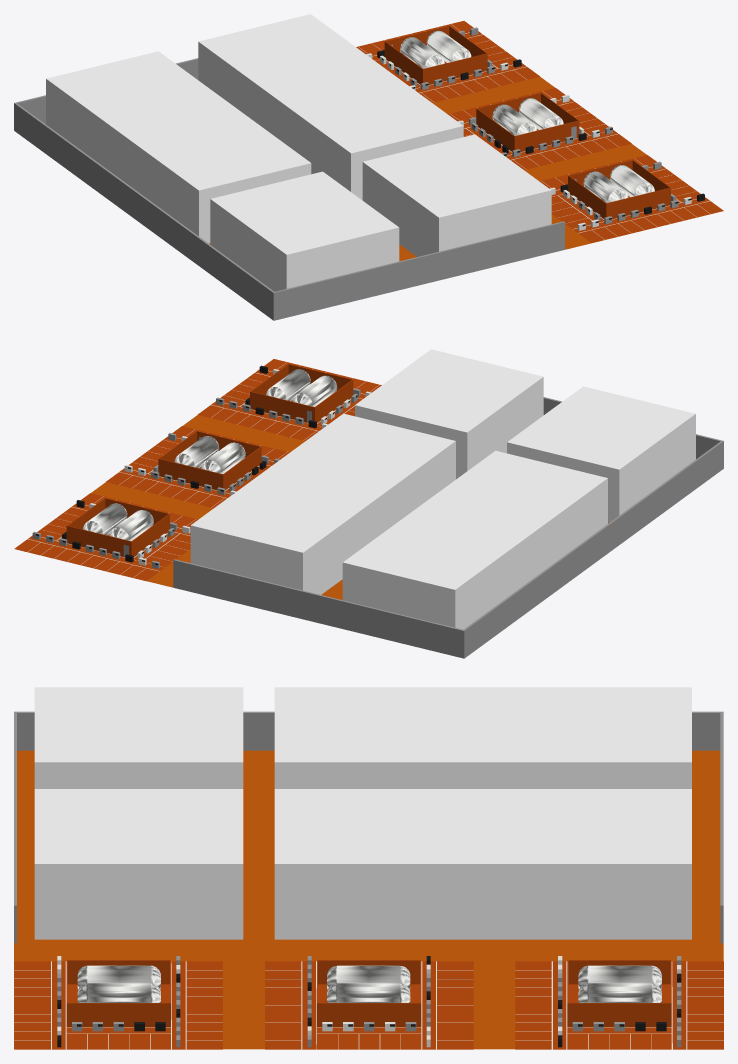
3 views of the same model, one above another, from view 1: azimuth 30°, elevation 25°; view 2: azimuth 150°, elevation 25°; view 3: azimuth 270°, elevation 25° (orthographic). The views are drawn at different scales.
Parts seen in each view (by area): view 1: Body3, Body4, Body2, Body5, Body6, Body1 (×4), Body284 (×3), Body39 (×3), Body10 (×3); view 2: Body3, Body4, Body2, Body1 (×4), Body5, Body6, Body284 (×3), Body39 (×3), Body10 (×3); view 3: Body1 (×4), Body4, Body3, Body6, Body5, Body284 (×3), Body39 (×3), Body10 (×3), Body2.
Part boxes in pixels (box(x1,y1,x2,y2)): Body3: box(46, 51, 311, 243); Body4: box(198, 14, 463, 200); Body2: box(14, 58, 564, 320); Body5: box(210, 171, 399, 291); Body6: box(362, 134, 551, 256); Body1 (×4): box(209, 21, 723, 261); Body284 (×3): box(384, 25, 670, 219); Body39 (×3): box(426, 30, 654, 197); Body10 (×3): box(400, 37, 628, 202); Body3: box(342, 450, 607, 629); Body4: box(190, 413, 455, 594); Body2: box(173, 397, 723, 658); Body1 (×4): box(14, 359, 608, 599); Body5: box(507, 386, 695, 522); Body6: box(355, 349, 543, 479); Body284 (×3): box(66, 364, 353, 556); Body39 (×3): box(82, 369, 310, 535); Body10 (×3): box(109, 375, 337, 541); Body1 (×4): box(14, 750, 723, 1049); Body4: box(274, 789, 691, 939); Body3: box(274, 687, 691, 788); Body6: box(34, 789, 243, 939); Body5: box(34, 687, 243, 788); Body284 (×3): box(66, 960, 671, 1026); Body39 (×3): box(77, 965, 661, 1002); Body10 (×3): box(77, 965, 661, 1002); Body2: box(14, 711, 723, 943).
Size of the model in its own units: 68.05 by 8.07 by 68.04.
